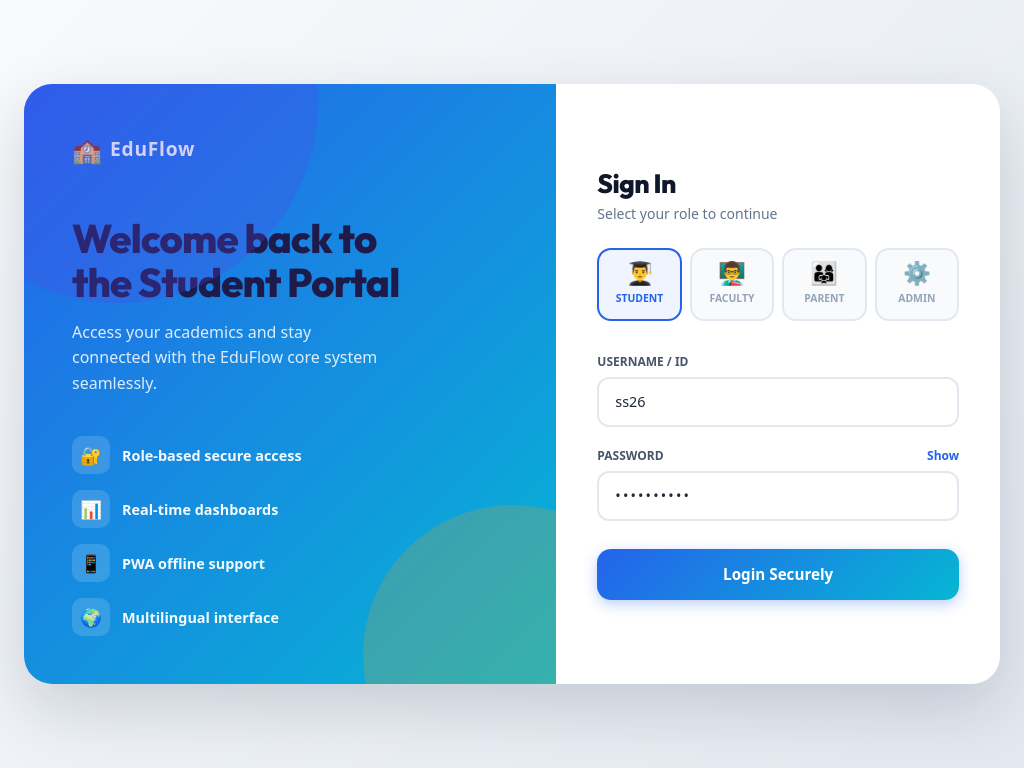
LoginPage › loads the admin demo credentials
Click the button "⚙️ Admin" at (917, 285), box [875,248,959,321]
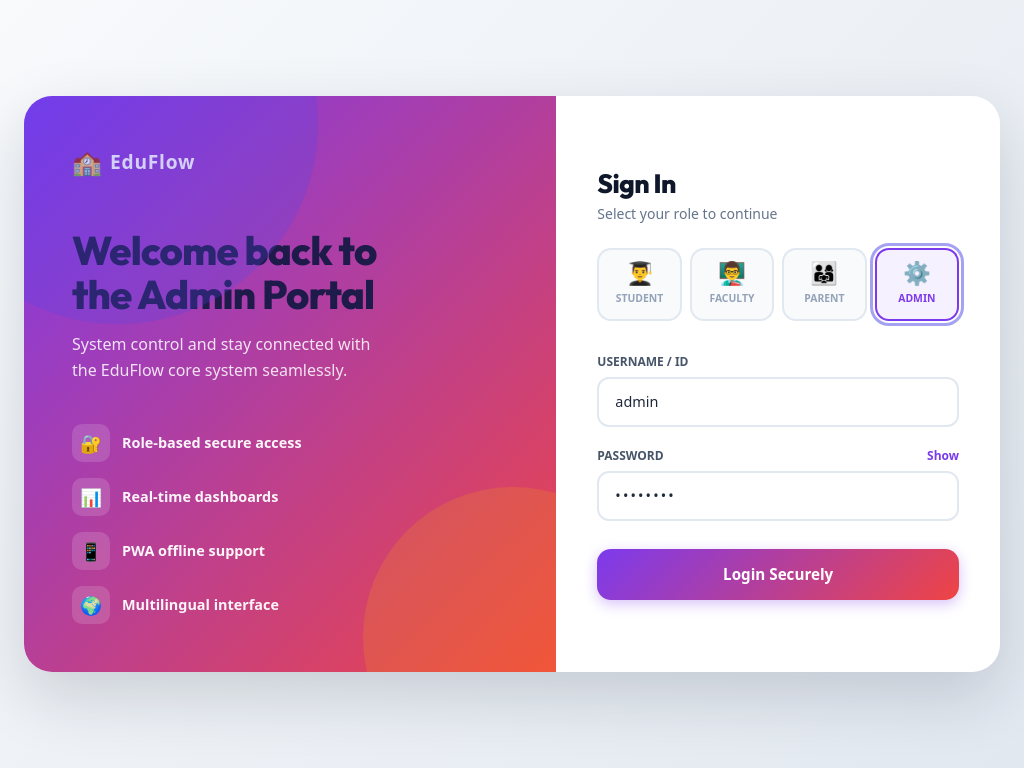
Expected: the text "Username / ID" is shown, [597,353,688,370]
Result: the field showing "admin" is shown at [597,377,959,427]
